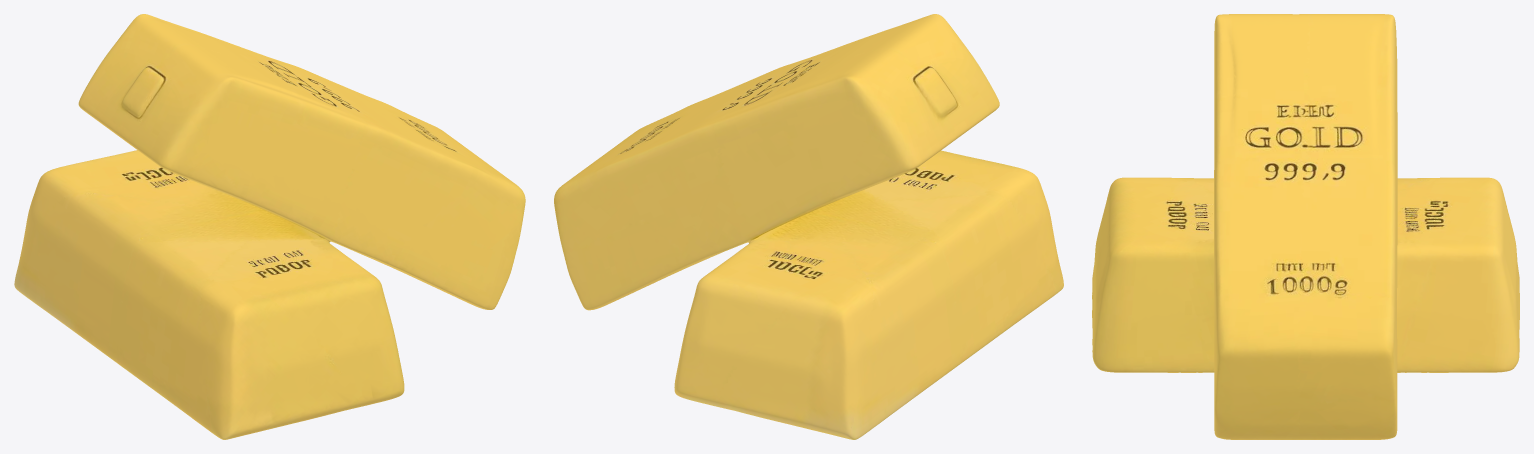
File: accounts-symbol.glb
The picture shows the model from 3 angles, left to right: view 1: azimuth 30°, elevation 25°; view 2: azimuth 150°, elevation 25°; view 3: azimuth 270°, elevation 25°; orthographic projection.
Visible parts, largest first — view 1: mesh_node; view 2: mesh_node; view 3: mesh_node.
Part boxes in pixels (x1=…): mesh_node: x1=14, y1=14, x2=525, y2=439; mesh_node: x1=554, y1=14, x2=1063, y2=439; mesh_node: x1=1092, y1=14, x2=1519, y2=439.
Size of the model in its own units: 1.87 by 1.48 by 1.9.
1 material, 1 textured.
